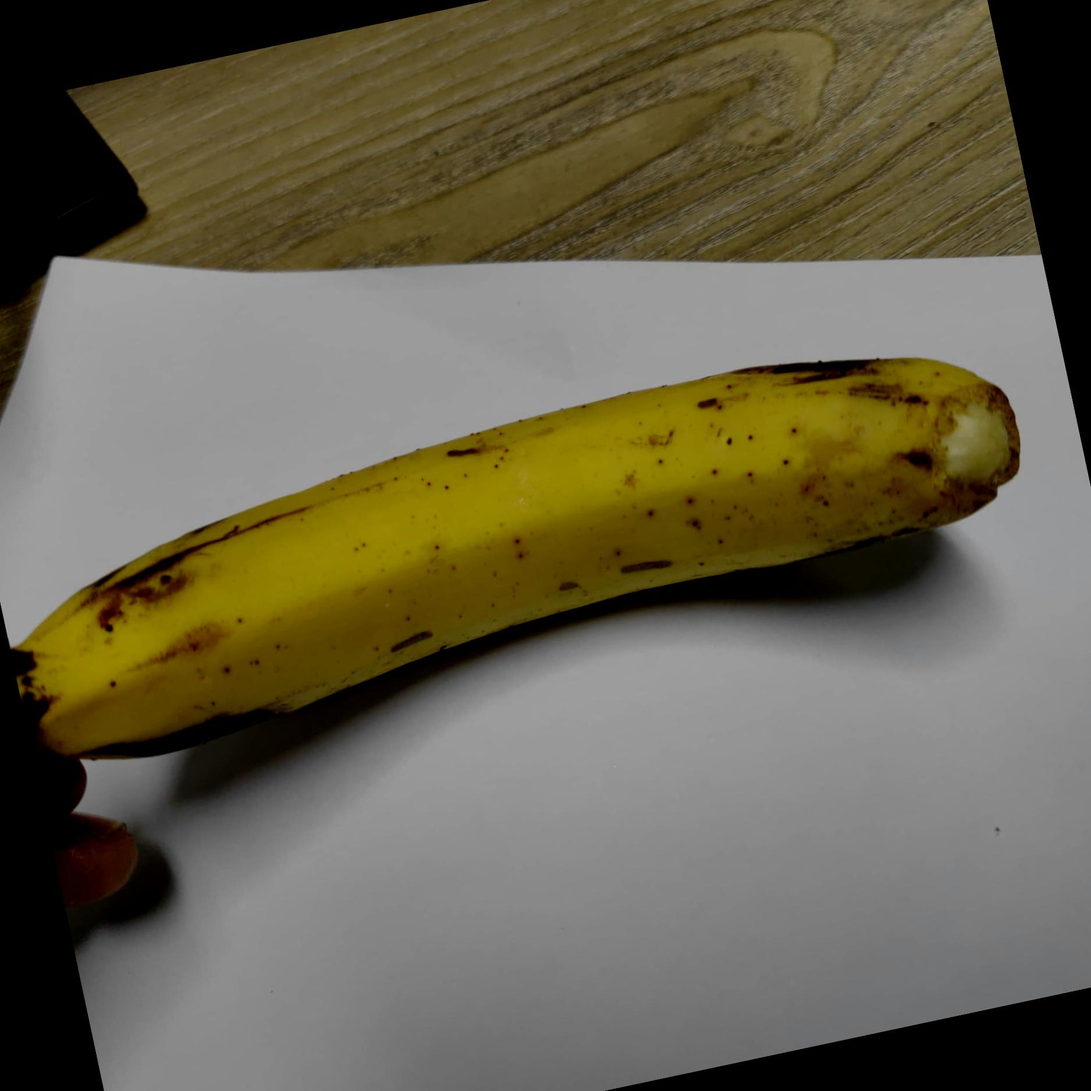Banana Ripe: (1, 289, 1070, 847)
